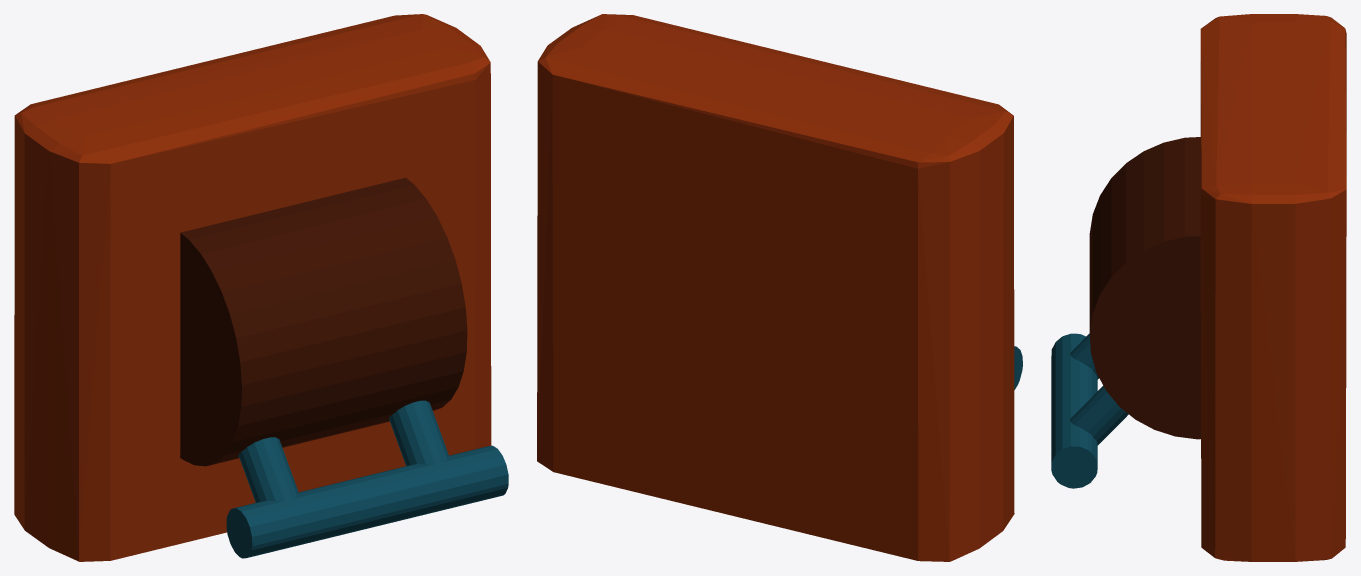
File: lever4.fbx
3 views of the same model, side by side, from view 1: azimuth 30°, elevation 25°; view 2: azimuth 150°, elevation 25°; view 3: azimuth 270°, elevation 25° (orthographic). The views are drawn at different scales.
Visible parts, largest first — view 1: Cube, Cylinder, Cylinder.001, Cylinder.002, Cylinder.003; view 2: Cube; view 3: Cube, Cylinder, Cylinder.001, Cylinder.003, Cylinder.002.
Boxes of the visible parts, x1,y1,x2,y2 form: Cube: [14, 14, 491, 561]; Cylinder: [180, 177, 467, 466]; Cylinder.001: [226, 445, 508, 558]; Cylinder.002: [238, 437, 298, 502]; Cylinder.003: [389, 400, 448, 465]; Cube: [537, 14, 1014, 561]; Cube: [1200, 14, 1346, 561]; Cylinder: [1089, 137, 1200, 439]; Cylinder.001: [1051, 333, 1097, 488]; Cylinder.003: [1070, 386, 1128, 445]; Cylinder.002: [1070, 333, 1098, 379].
Size of the model in its own units: 200 by 181 by 131.
